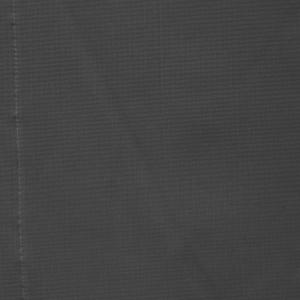Wrinkle: (52, 1, 240, 300)
